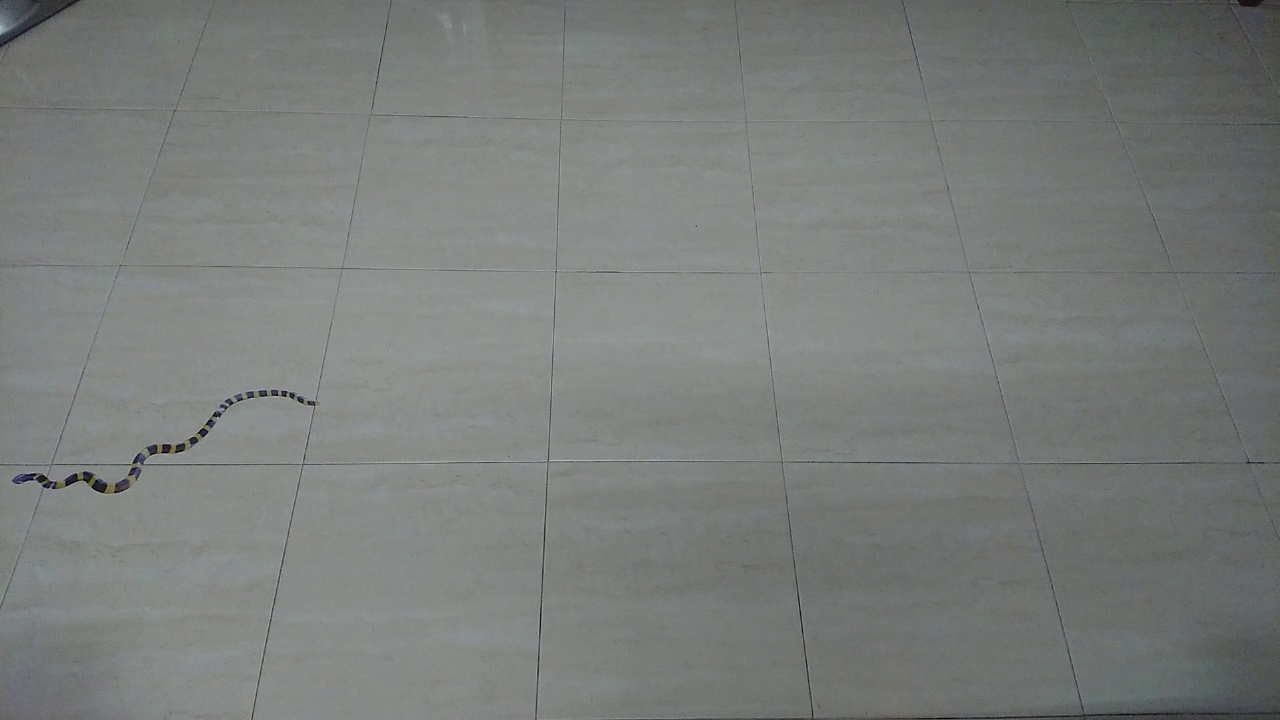snake: (7, 376, 331, 502)
